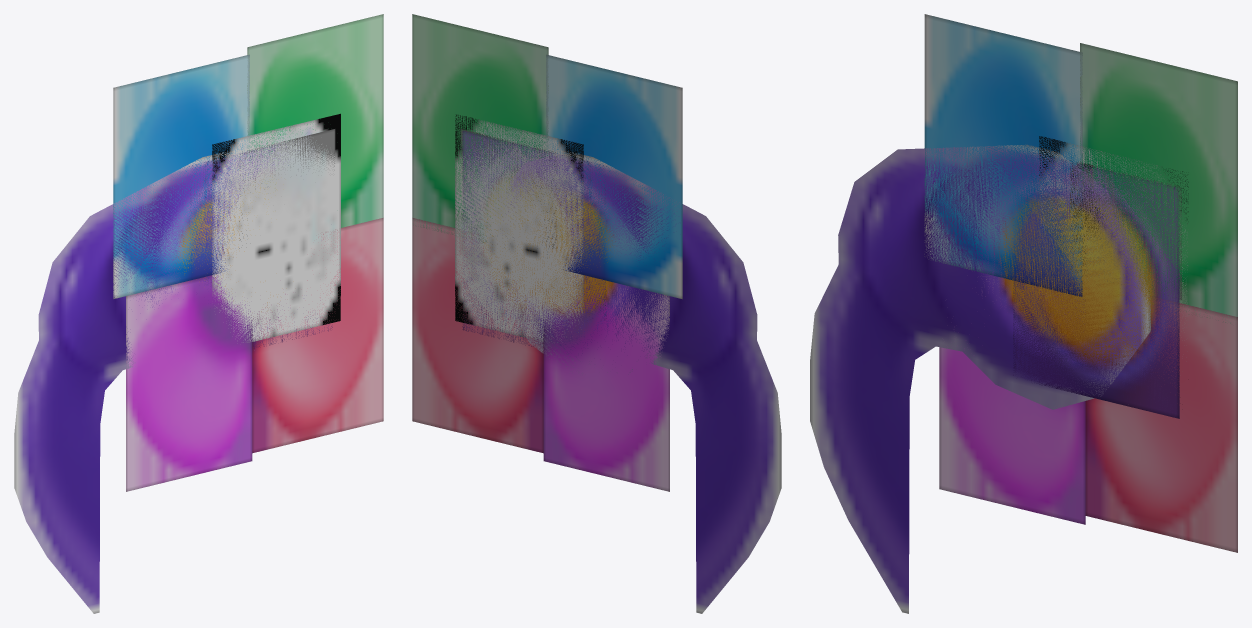
The model's file is BoxCats.glb.
3 views of the same model, side by side, from view 1: azimuth 30°, elevation 25°; view 2: azimuth 150°, elevation 25°; view 3: azimuth 330°, elevation 25° (orthographic). The views are drawn at different scales.
Parts seen in each view (by area): view 1: Spine GameObject (mechanic_quat); view 2: Spine GameObject (mechanic_quat); view 3: Spine GameObject (mechanic_quat).
Boxes of the visible parts, x1=… form: Spine GameObject (mechanic_quat): x1=14, y1=14, x2=383, y2=613; Spine GameObject (mechanic_quat): x1=412, y1=14, x2=781, y2=613; Spine GameObject (mechanic_quat): x1=810, y1=14, x2=1237, y2=613.
Bounding box in the file's own units: 0.6023 × 0.8242 × 0.
Materials: 1 (1 with a texture image).
